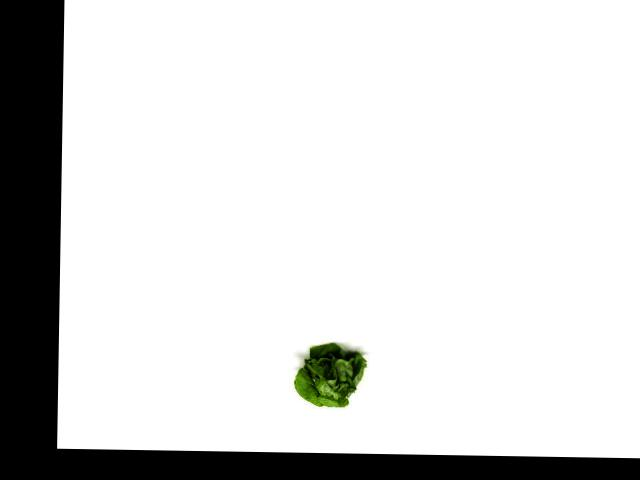lettuce: (292, 338, 368, 413)
